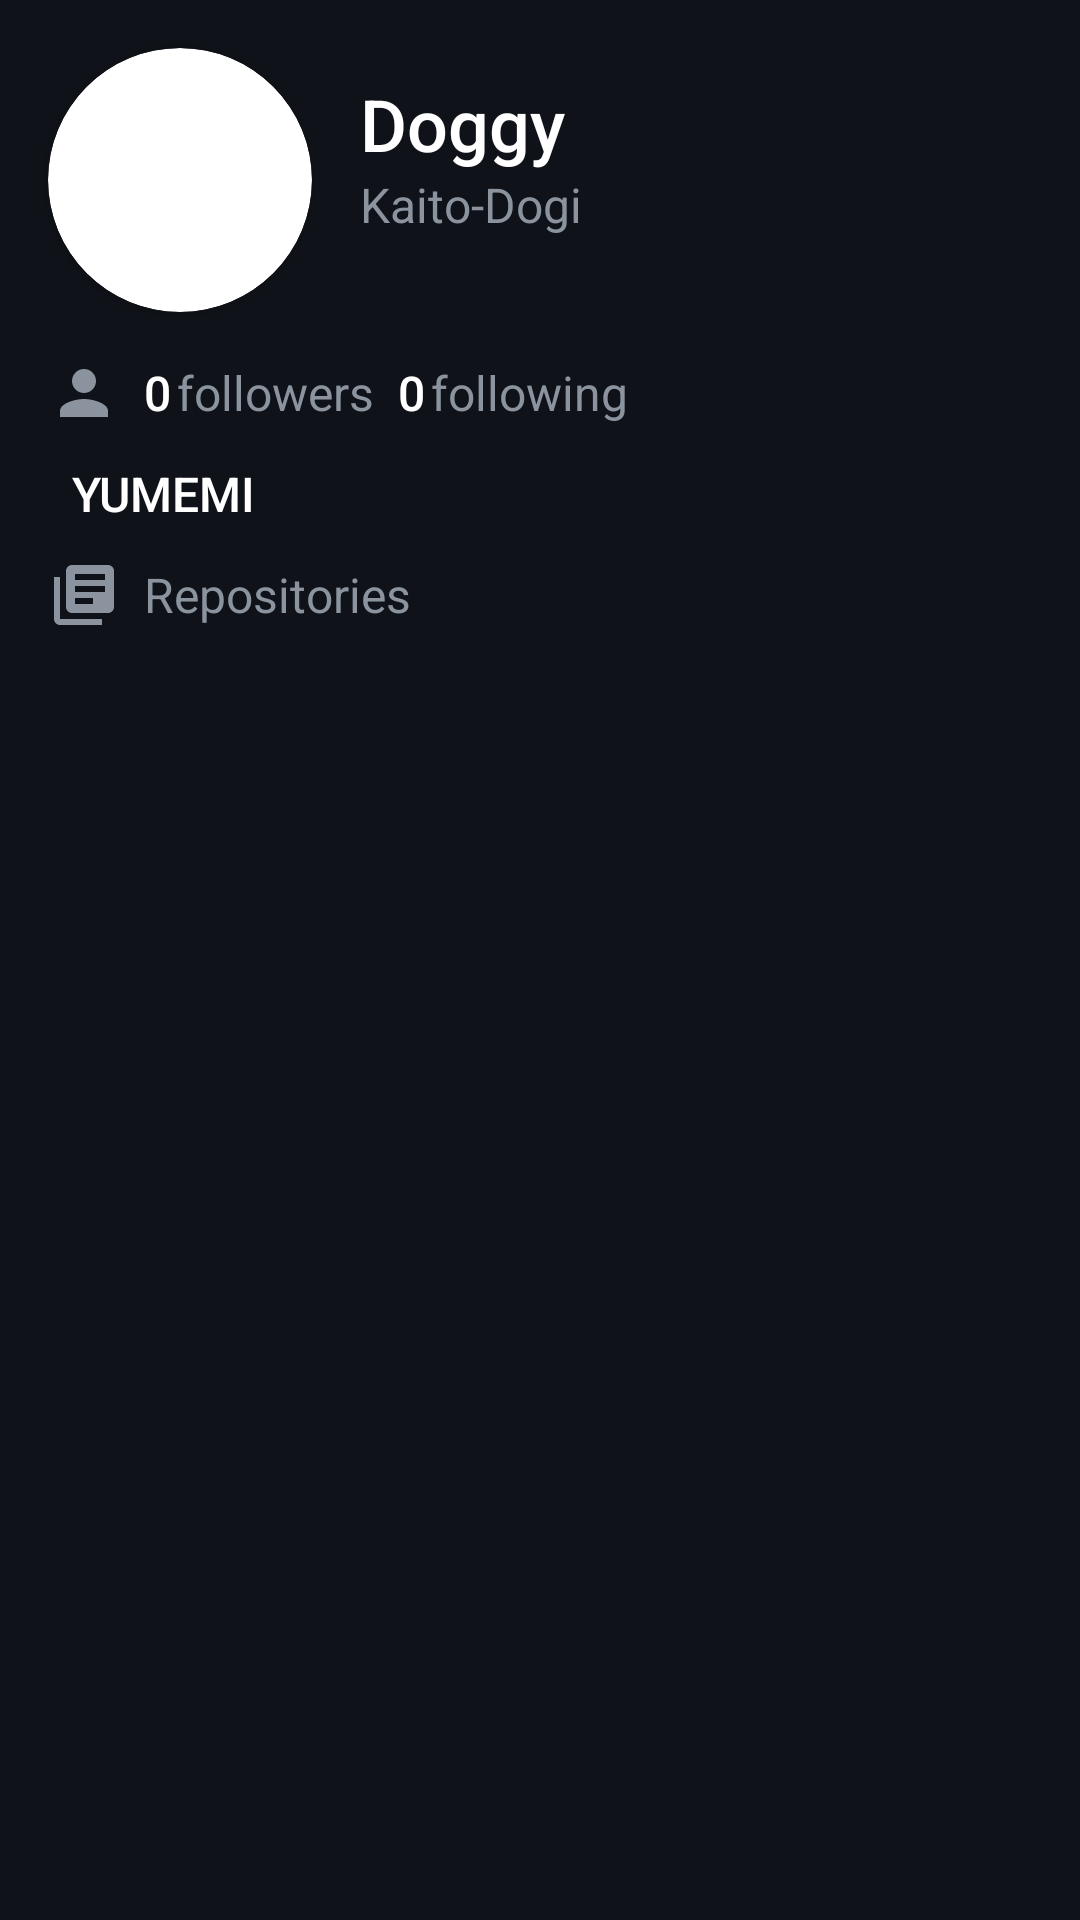

Icon click points for this 1080*1920 phone screenshot, format point (x, y):
library books: point (84, 595)
person: point (84, 393)
